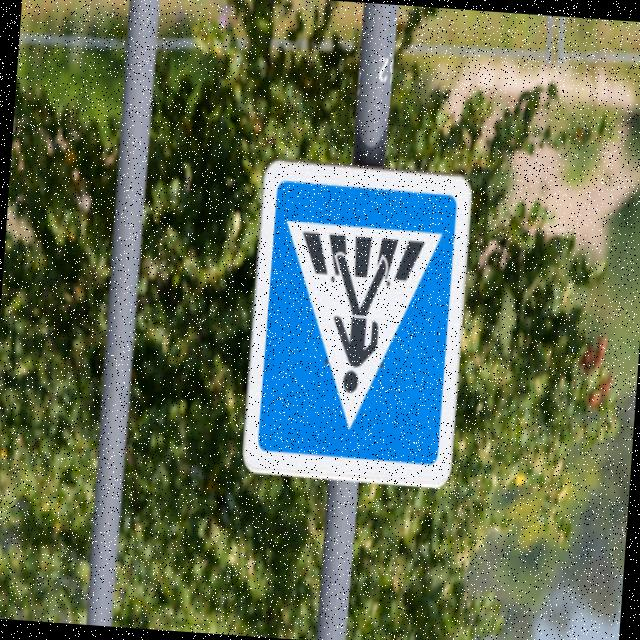crosswalk: (235, 150, 482, 504)
